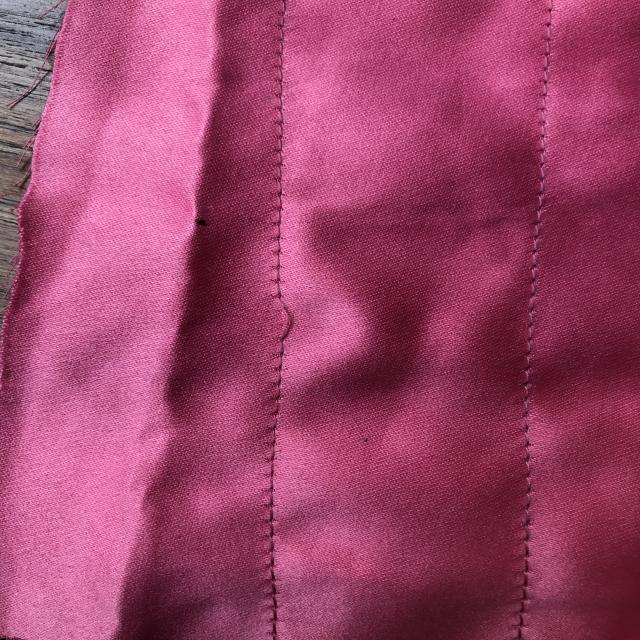skip: (252, 284, 306, 353)
